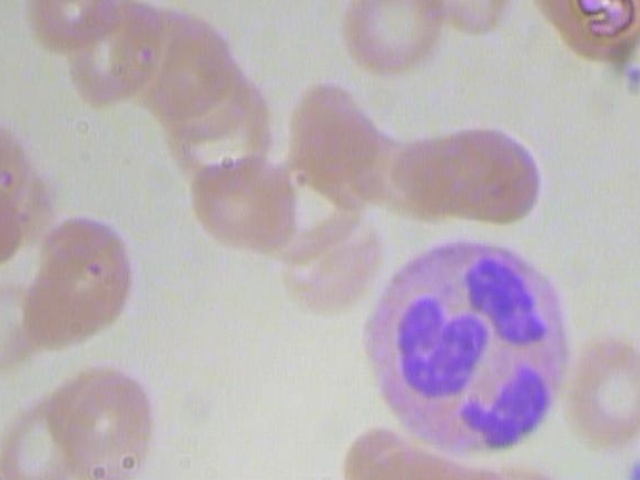Platelets: (622, 453, 640, 480)
RBC: (9, 212, 142, 359), (426, 120, 546, 235), (182, 146, 302, 260), (60, 0, 169, 114), (61, 358, 162, 480), (272, 201, 382, 313), (552, 329, 640, 451), (330, 0, 448, 81), (0, 381, 95, 480)
WBC: (355, 226, 578, 462)
